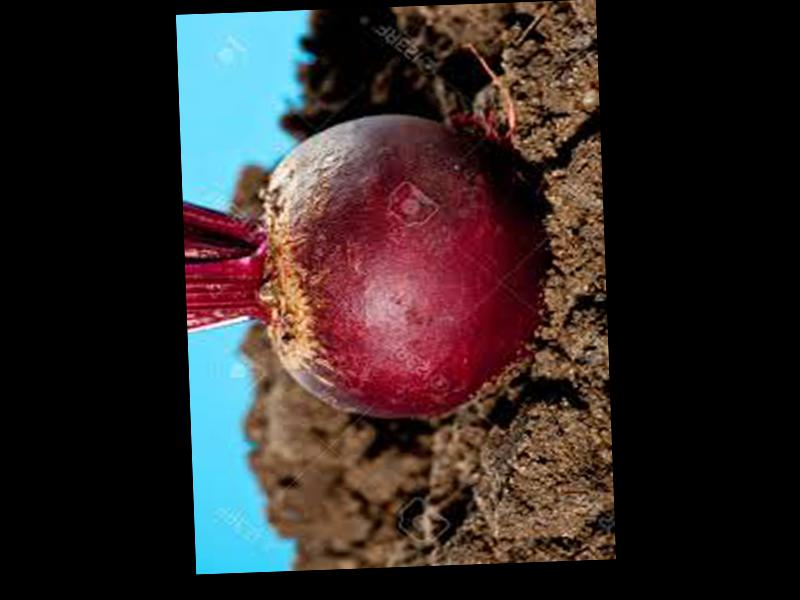Beet: (182, 107, 549, 425)
